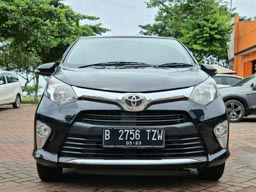plat: (103, 128, 166, 141)
